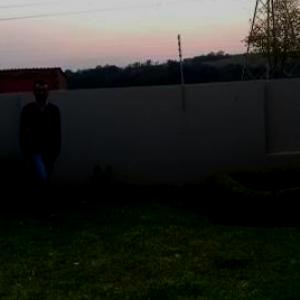follow: (20, 82, 74, 202)
